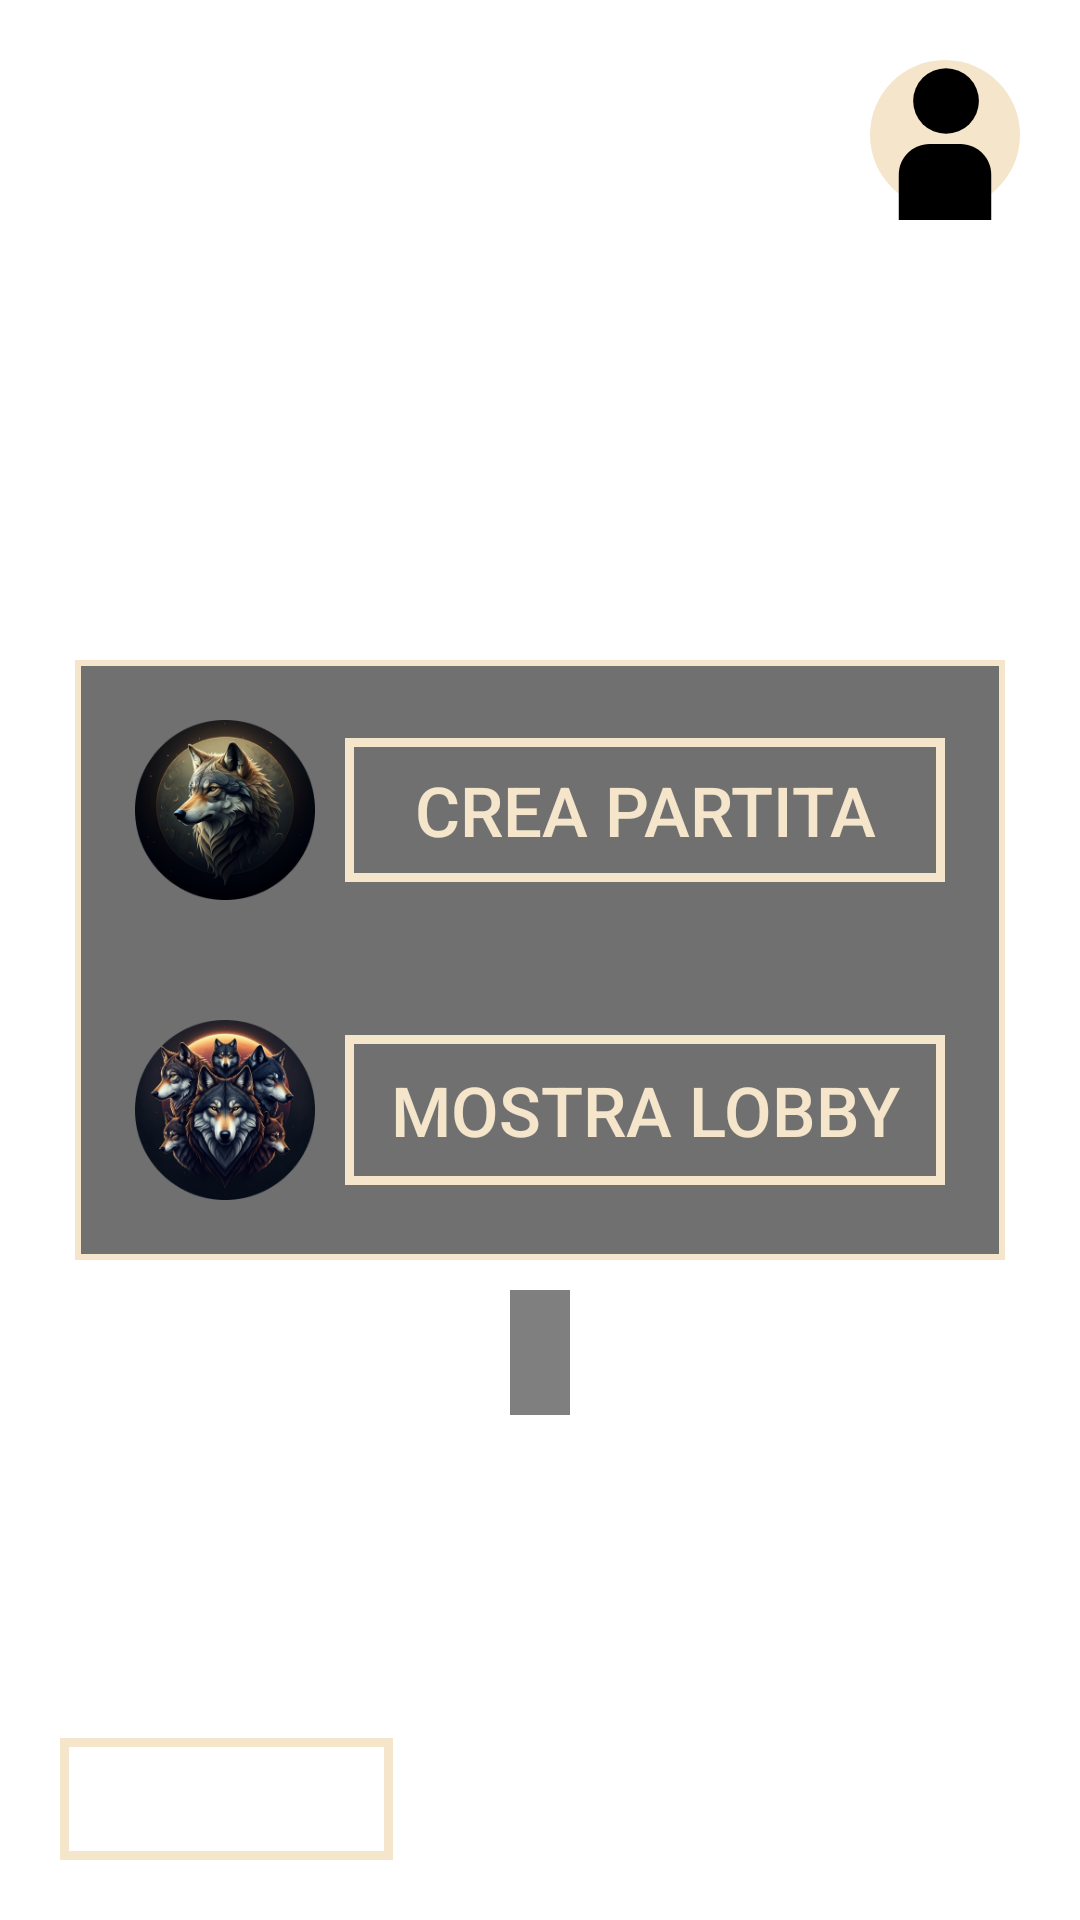

Icon click points for this 1080*1920 phone screenshot, format (x=x, y=y):
lupo cerca: (x=225, y=1110)
lupo ospita: (x=225, y=810)
